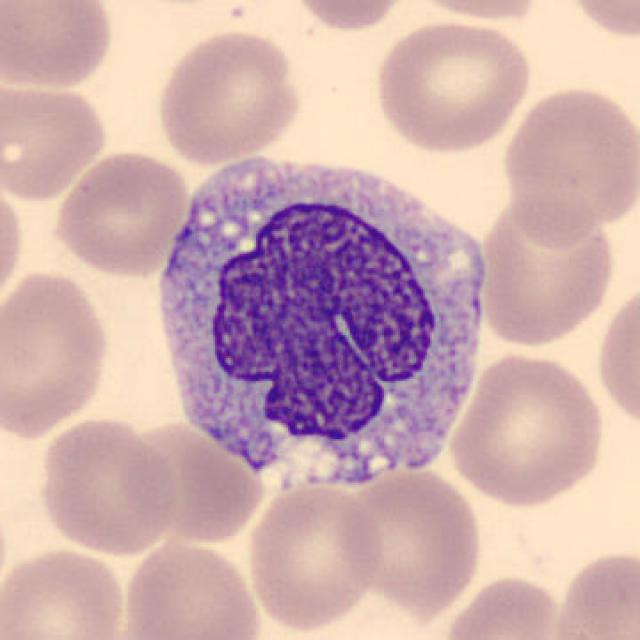Monocyte: (140, 141, 498, 499)
RBC: (444, 347, 610, 508), (336, 462, 485, 619), (473, 192, 619, 351), (370, 16, 535, 155), (500, 81, 638, 243), (151, 26, 304, 168), (244, 480, 384, 634), (34, 414, 180, 559), (0, 266, 116, 443), (119, 412, 270, 546), (50, 148, 190, 280), (117, 534, 265, 640), (0, 78, 112, 204), (0, 543, 132, 640), (0, 0, 117, 91), (439, 571, 569, 640), (546, 545, 640, 640), (592, 275, 640, 436), (284, 0, 415, 33), (0, 174, 28, 317), (554, 0, 640, 42), (400, 0, 549, 23)
